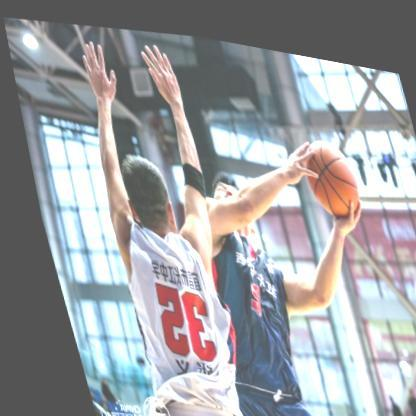basketball: (292, 124, 362, 212)
